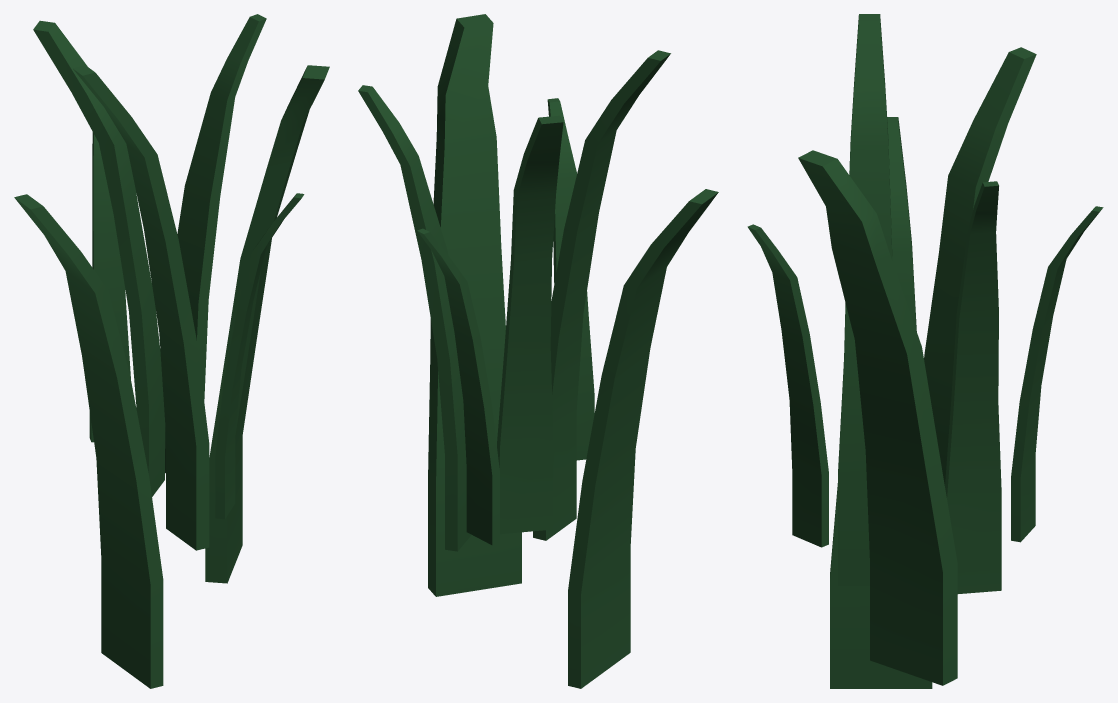
The model's file is CorruptedGrass1.fbx.
3 renders of one model, left to right at view 1: azimuth 30°, elevation 25°; view 2: azimuth 150°, elevation 25°; view 3: azimuth 270°, elevation 25°, orthographic. The views are drawn at different scales.
Visible parts, largest first — view 1: pCube21; view 2: pCube21; view 3: pCube21.
Boxes of the visible parts, x1,y1,x2,y2 form: pCube21: (14, 14, 329, 688); pCube21: (358, 14, 718, 688); pCube21: (747, 14, 1103, 688).
Size of the model in its own units: 207 by 415 by 209.
